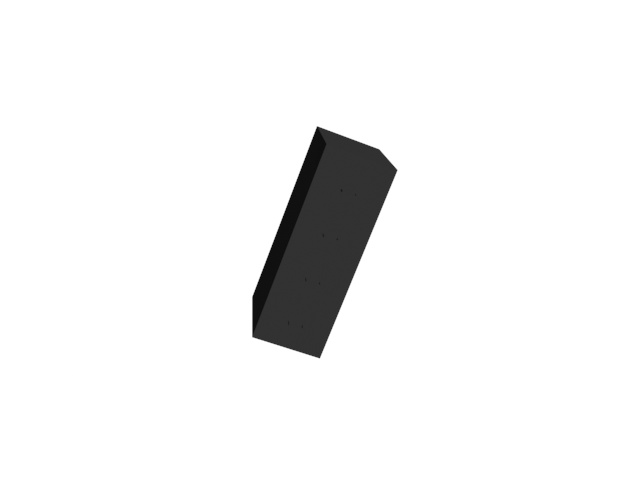file_cabinet: (249, 121, 400, 360)
